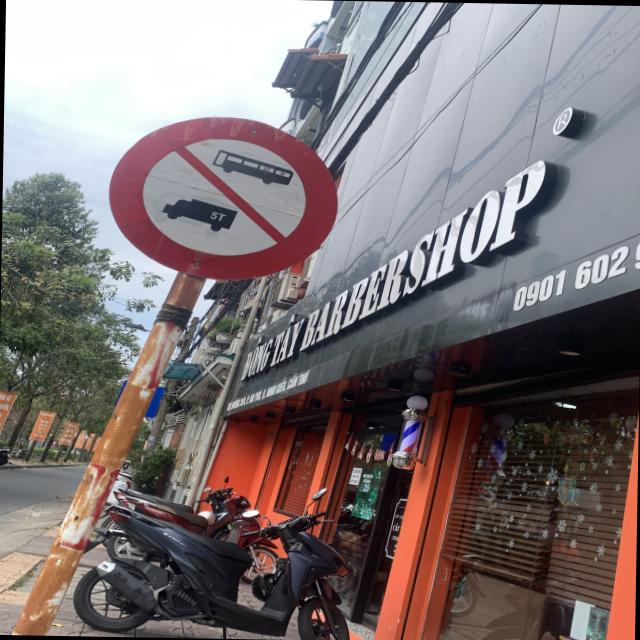Cam_XeTai_XeKhach: (106, 113, 342, 284)
